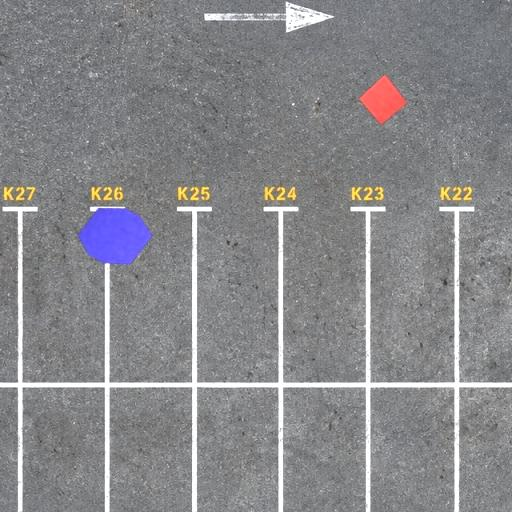RED_SQUARE: (358, 74, 408, 126)
